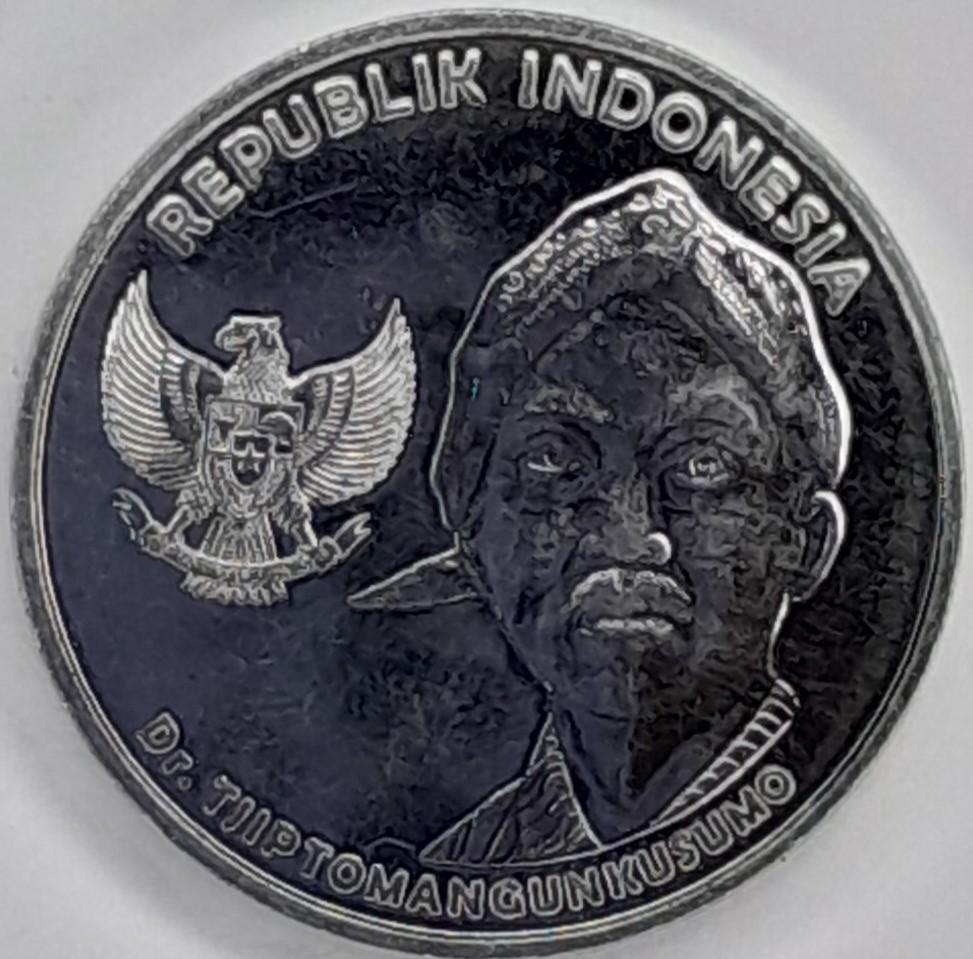coin_200_e2016: (0, 17, 973, 959)
